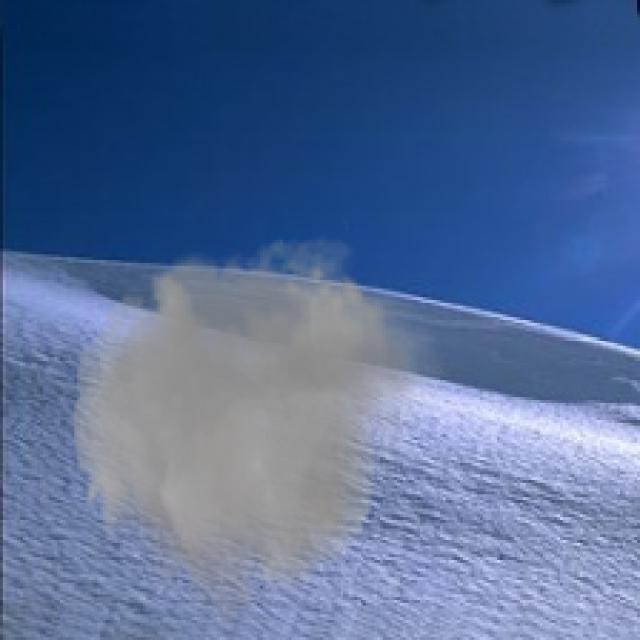Smoke: (62, 220, 452, 637)
